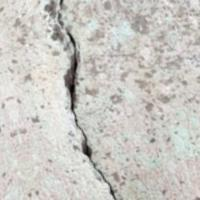crack: (45, 0, 122, 199)
